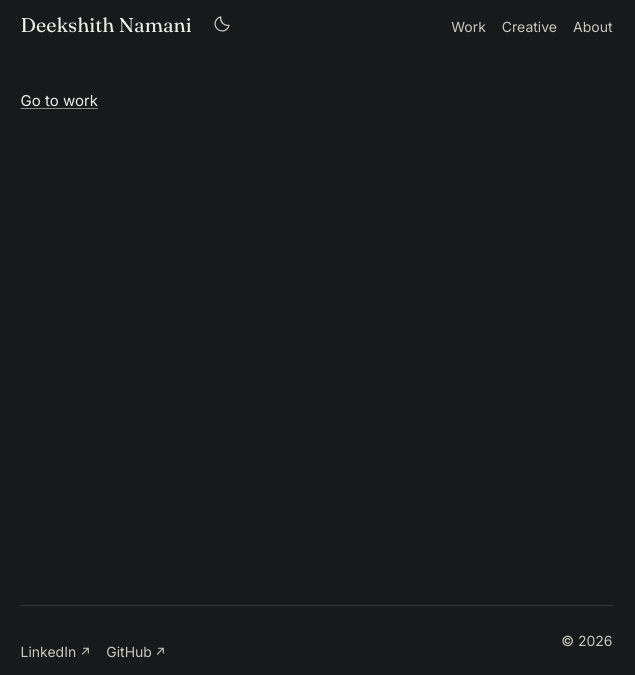
layout shell › moves focus to Creative after following its header link
Click the link "Creative".
click(530, 26)  # box [502,18,557,34]
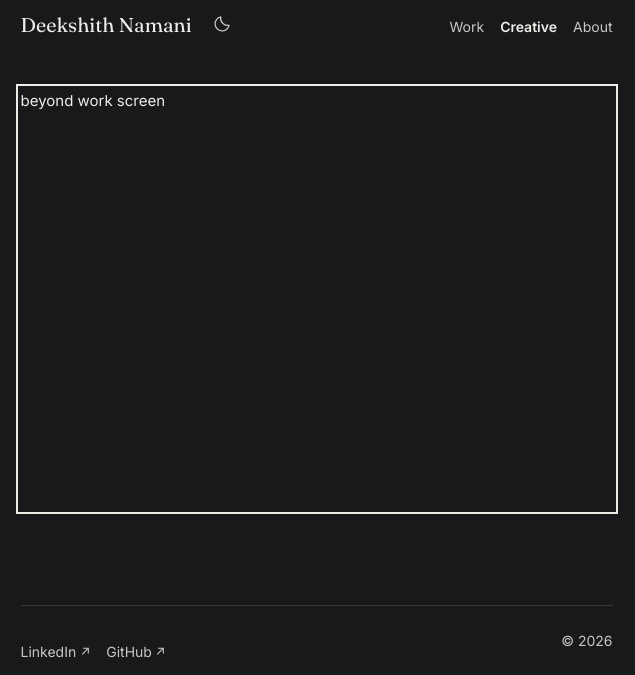
Expected: the text "beyond work screen" is shown, [20,91,165,110]
